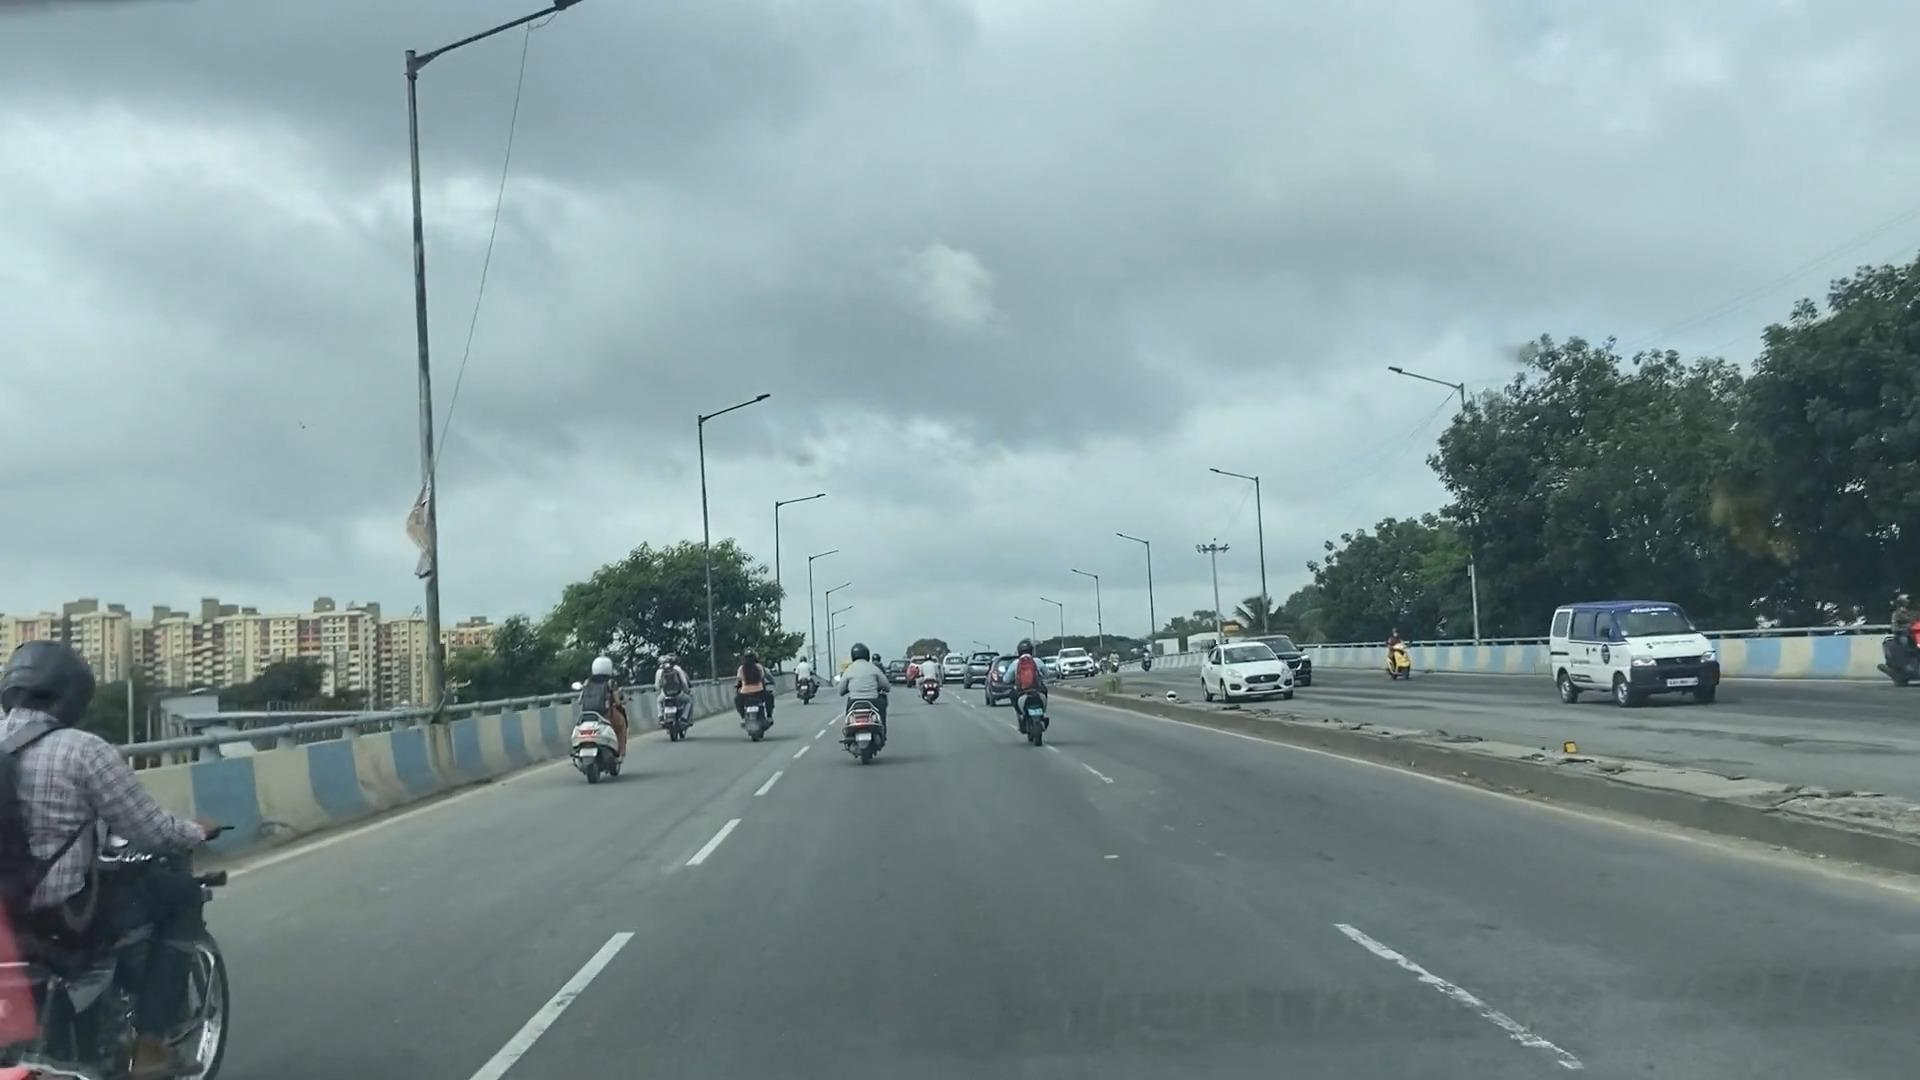LMV: (988, 630, 1065, 736), (836, 634, 898, 754), (724, 630, 783, 735), (572, 647, 621, 766), (651, 640, 696, 745)
